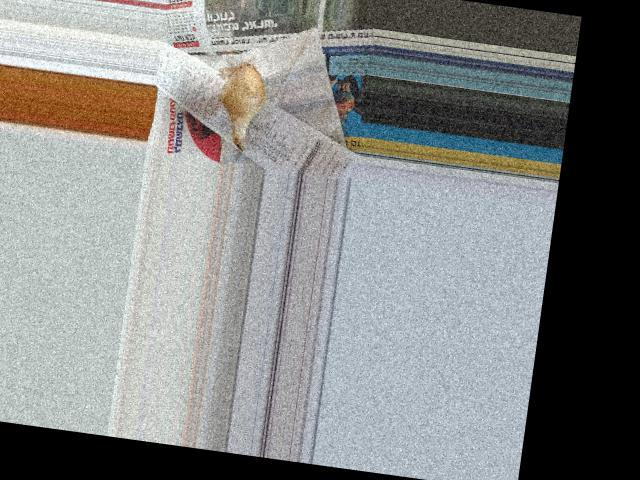onion: (219, 64, 267, 131)
